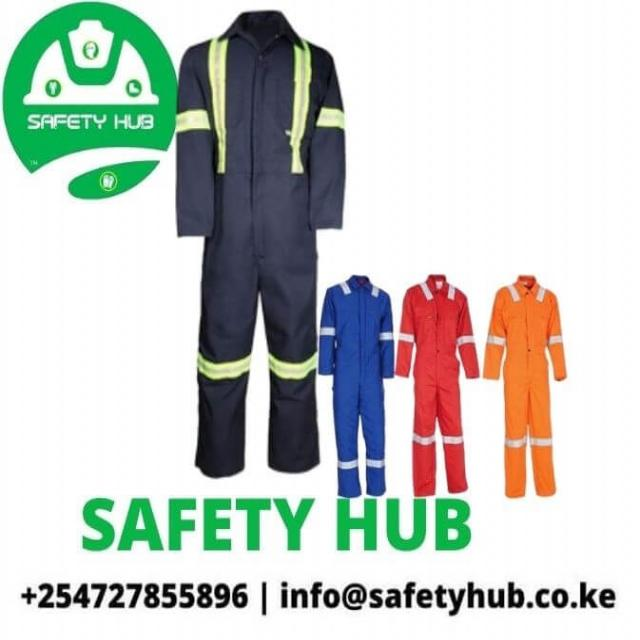Reflective-Jacket: (174, 9, 362, 195), (492, 276, 574, 389), (316, 276, 398, 384), (398, 277, 478, 384)
